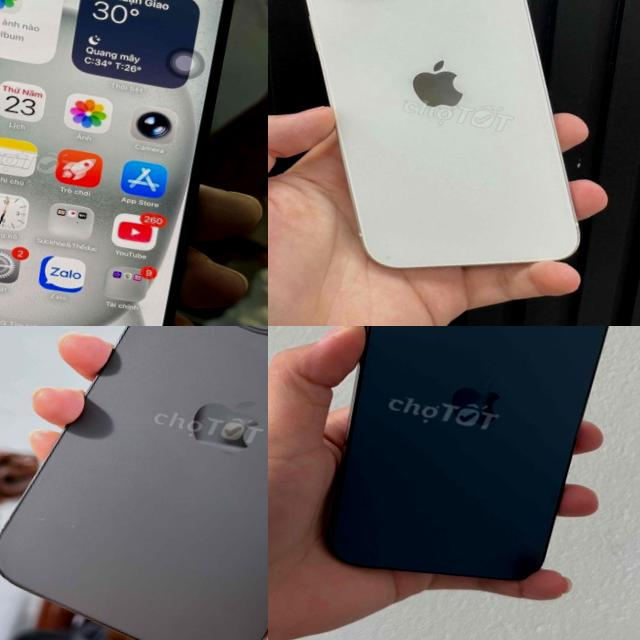gen_12_13: (307, 326, 625, 611)
gen_14: (268, 0, 640, 316), (0, 326, 268, 640)
gen_15: (0, 0, 268, 326)
